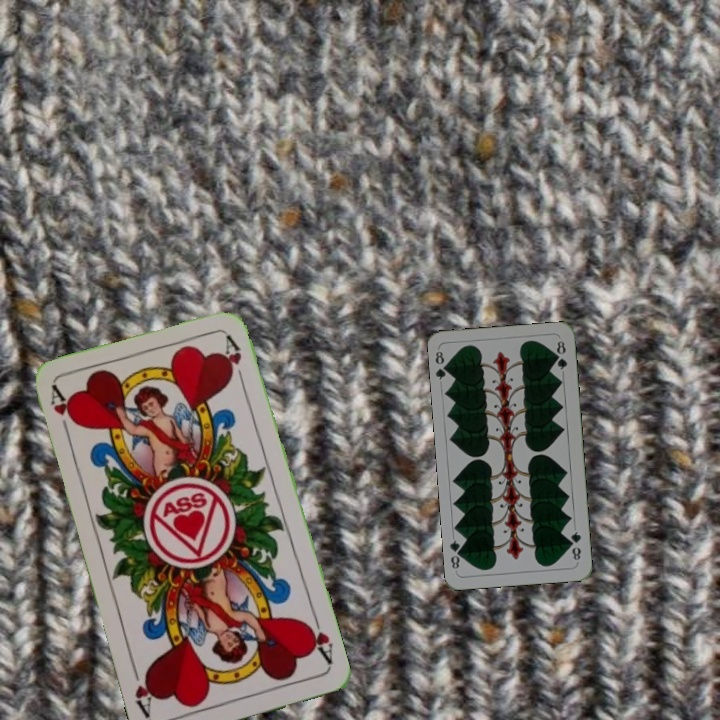G8: (431, 347, 452, 382), (566, 527, 584, 563)
HA: (301, 611, 336, 668), (46, 383, 80, 441)
